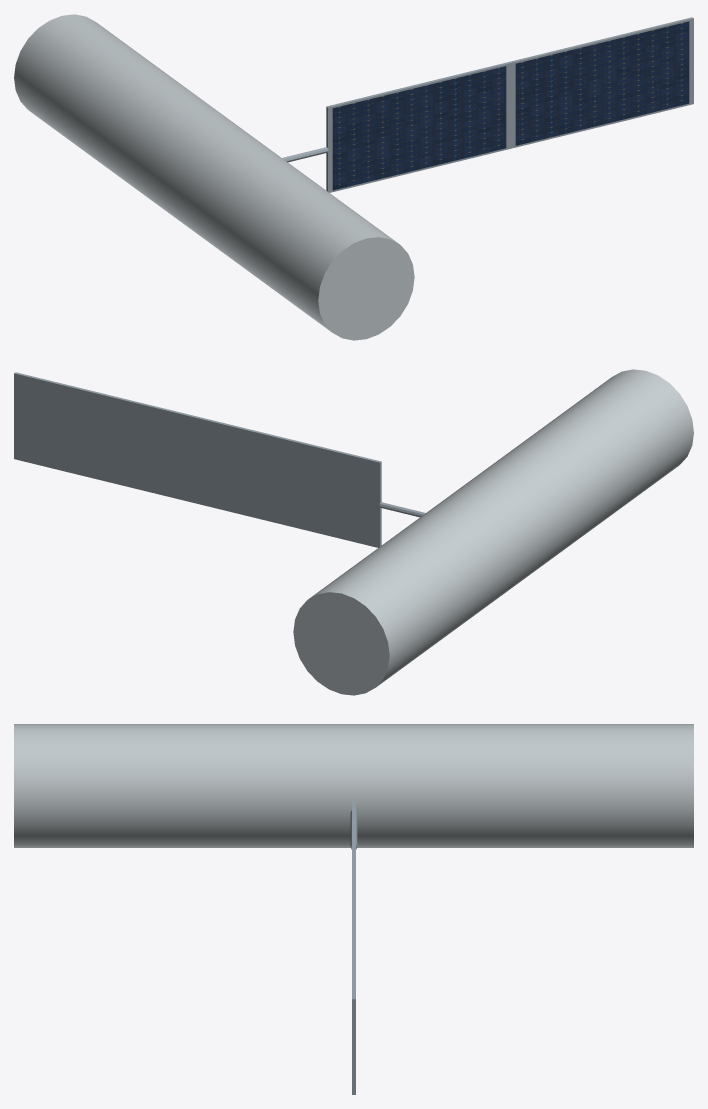
File: ref-s-ivb-ows-6633.glb
The picture shows the model from 3 angles, top to bottom: view 1: azimuth 30°, elevation 25°; view 2: azimuth 150°, elevation 25°; view 3: azimuth 270°, elevation 25°; orthographic projection. The views are drawn at different scales.
Visible parts, largest first — view 1: Spacecraft body, Photovoltaic laminates (×2), Array frame (×2); view 2: Spacecraft body, Array frame (×2); view 3: Spacecraft body, Array frame.
Part boxes in pixels (bbox=[...]): Spacecraft body: bbox=[14, 14, 414, 340]; Photovoltaic laminates (×2): bbox=[332, 21, 689, 190]; Array frame (×2): bbox=[326, 17, 693, 192]; Spacecraft body: bbox=[293, 369, 693, 695]; Array frame (×2): bbox=[14, 372, 381, 547]; Spacecraft body: bbox=[14, 724, 693, 847]; Array frame: bbox=[352, 899, 355, 1094].
Bounding box in the file's own units: 36.1 × 6.6 × 36.1.
3 materials, 1 textured.
